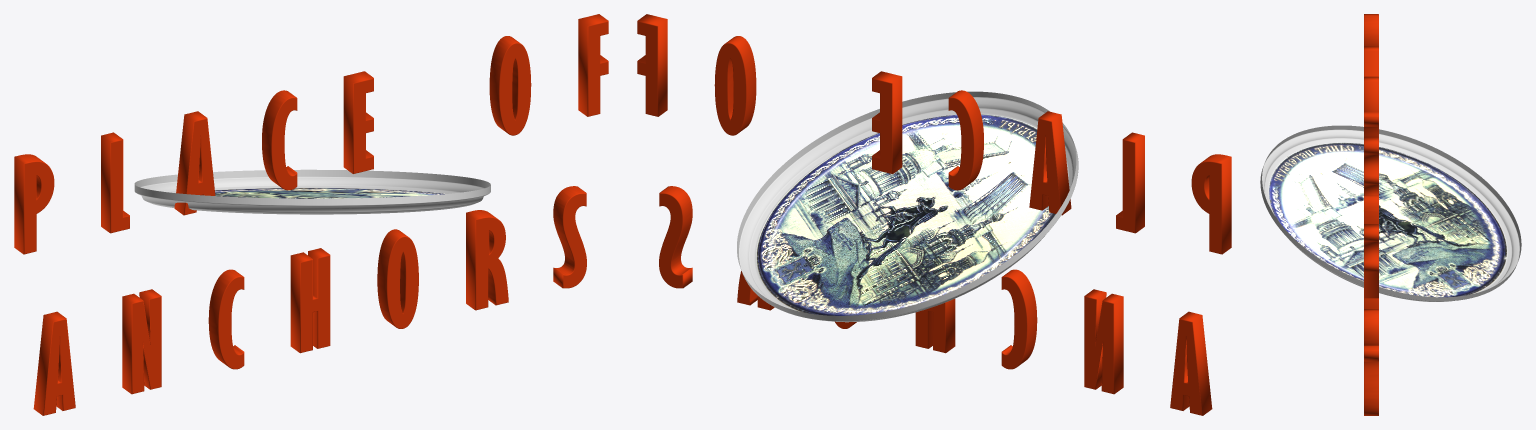
Rendered from Mirror_anim_v2.glb.
The picture shows the model from 3 angles, left to right: view 1: azimuth 30°, elevation 25°; view 2: azimuth 150°, elevation 25°; view 3: azimuth 270°, elevation 25°; orthographic projection. The views are drawn at different scales.
Parts seen in each view (by area): view 1: Text, Cylinder.001; view 2: Cylinder.001, Text; view 3: Cylinder.001, Text.
Part boxes in pixels (<box>): Text: <box>14,14,608,415</box>; Cylinder.001: <box>134,169,490,214</box>; Cylinder.001: <box>737,91,1078,322</box>; Text: <box>637,14,1231,415</box>; Cylinder.001: <box>1260,125,1521,301</box>; Text: <box>1364,14,1378,415</box>.
Bounding box in the file's own units: 1.33 × 0.5604 × 0.6719.
Materials: 3 (1 with a texture image).
